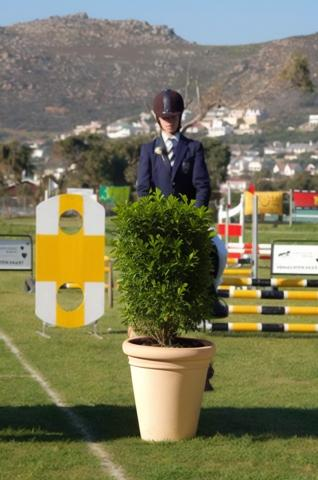person: (112, 90, 231, 320)
pottedplant: (110, 187, 214, 445)
